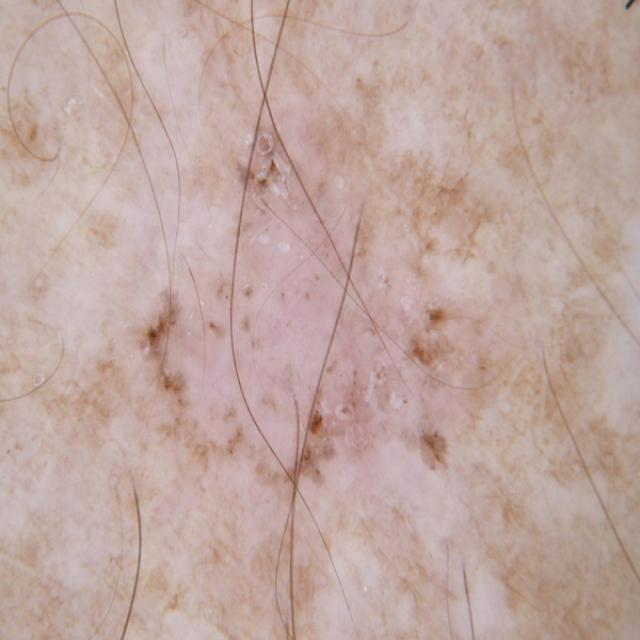Skin-Cancer Basal cell carcinoma: (4, 10, 626, 640)
